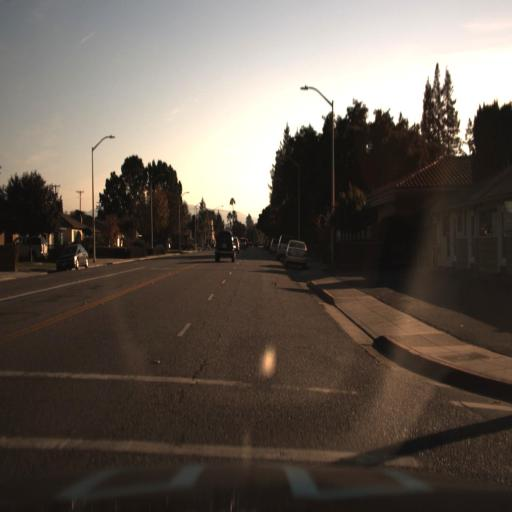car: (52, 237, 91, 271), (16, 235, 50, 268), (212, 228, 237, 262), (284, 240, 307, 266), (277, 231, 295, 259)
